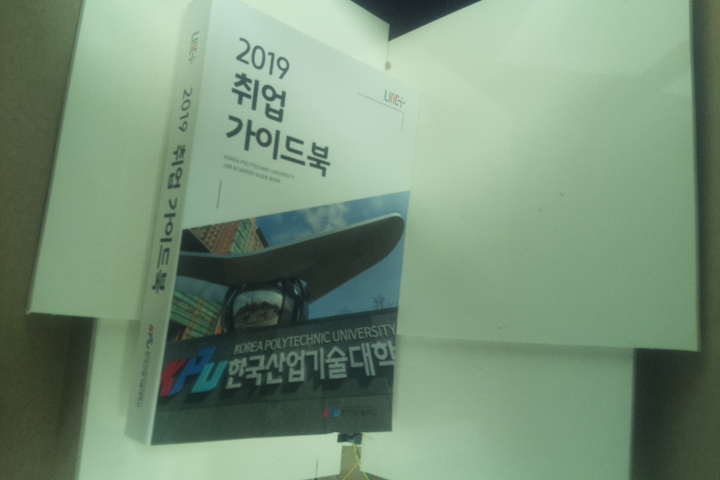book: (122, 1, 419, 449)
